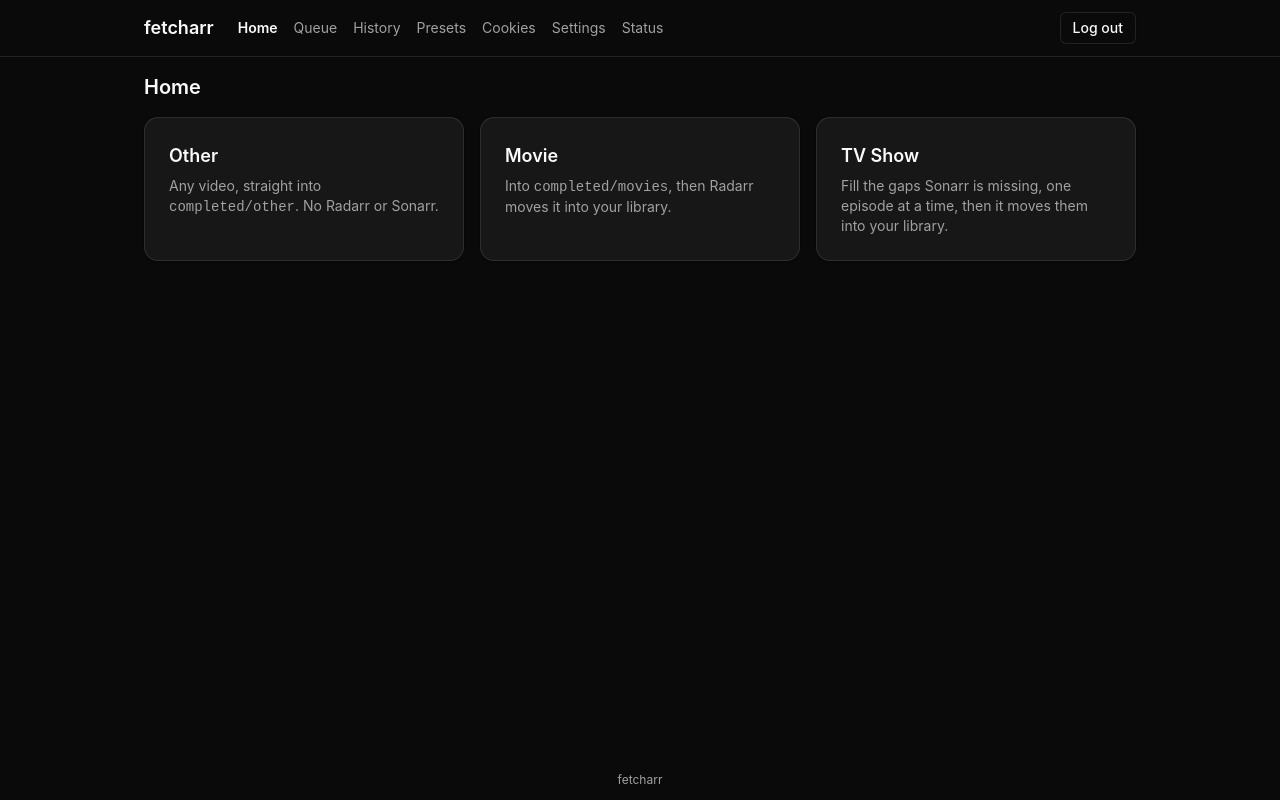
Test case: Movie wizard › is reachable from Home
The image size is (1280, 800).
Step 1. Click the link "Movie" → (640, 189), box top-left (480, 117), bottom-right (800, 261)
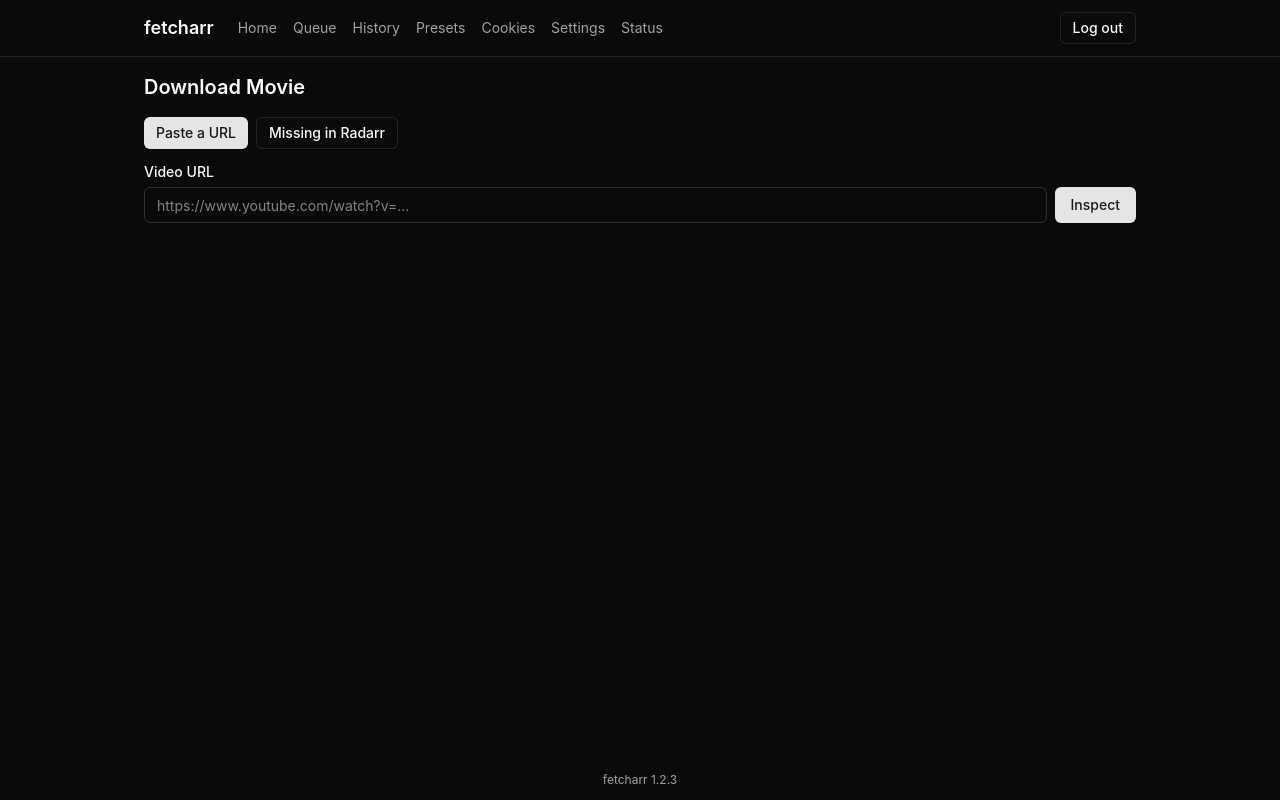
Expected: the heading "Download Movie" is shown, top-left (144, 75), bottom-right (305, 99)
